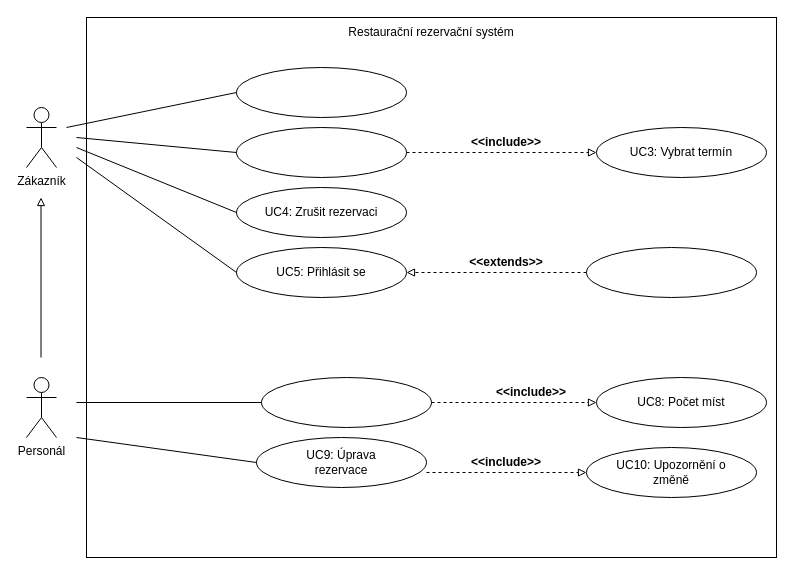
Some shapes in this 794 by 575 pixel diagram are drawn without their labels. Here are the shapes that lost their labels. From the top down, the box of each, then its label:
(236, 66, 406, 118): UC1: Zobrazit dostupné termíny
(236, 126, 406, 178): UC2: Vytvořit rezervaci
(586, 246, 756, 298): UC6: Vytvořit účet
(260, 376, 432, 428): UC7: Přidat stůl
